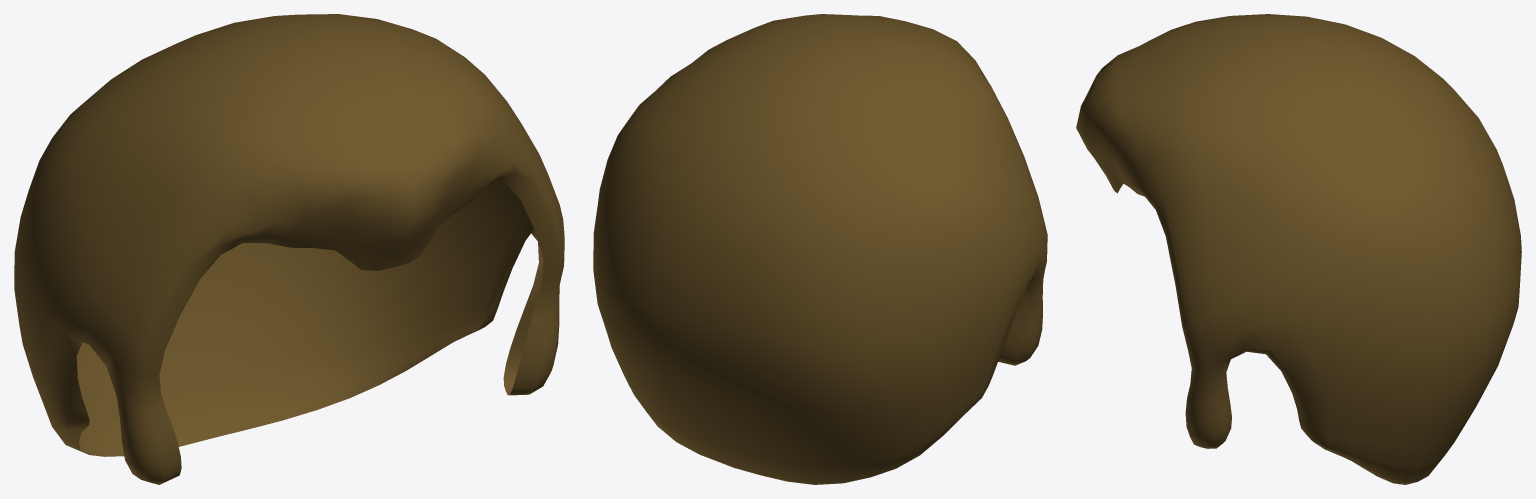
File: Hair00.fbx
3 renders of one model, left to right at view 1: azimuth 30°, elevation 25°; view 2: azimuth 150°, elevation 25°; view 3: azimuth 270°, elevation 25°, orthographic. The views are drawn at different scales.
Parts seen in each view (by area): view 1: Hair1; view 2: Hair1; view 3: Hair1.
Boxes of the visible parts, <box> form: Hair1: <box>14,14,564,484</box>; Hair1: <box>593,14,1047,484</box>; Hair1: <box>1076,14,1521,484</box>.
Bounding box in the file's own units: 12.71 × 11.65 × 11.59.
